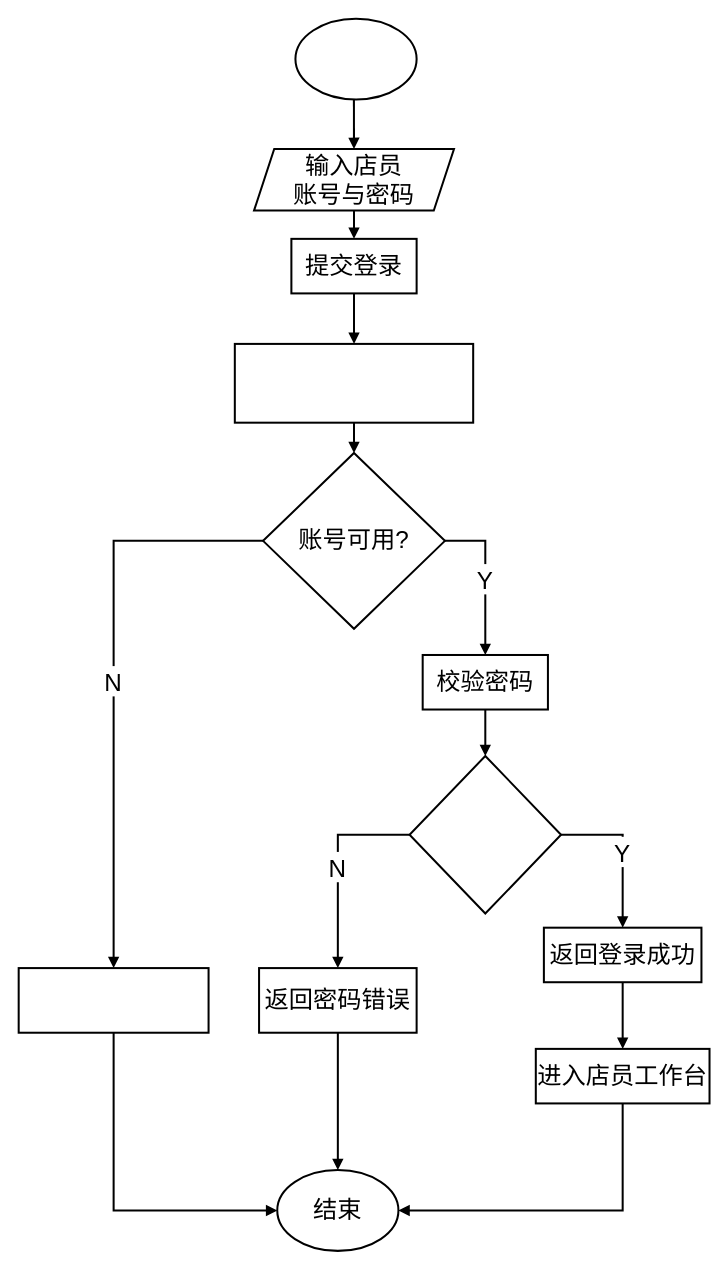
Some shapes in this 727 by 1269 pixel diagram are drawn without their labels. The centre of each missing label's shape, as x and y in pixels:
密码正确?: the point at 485,834
开始: the point at 355,58
系统查询用户并校验状态: the point at 353,382
返回登录 失败原因: the point at 113,1000
